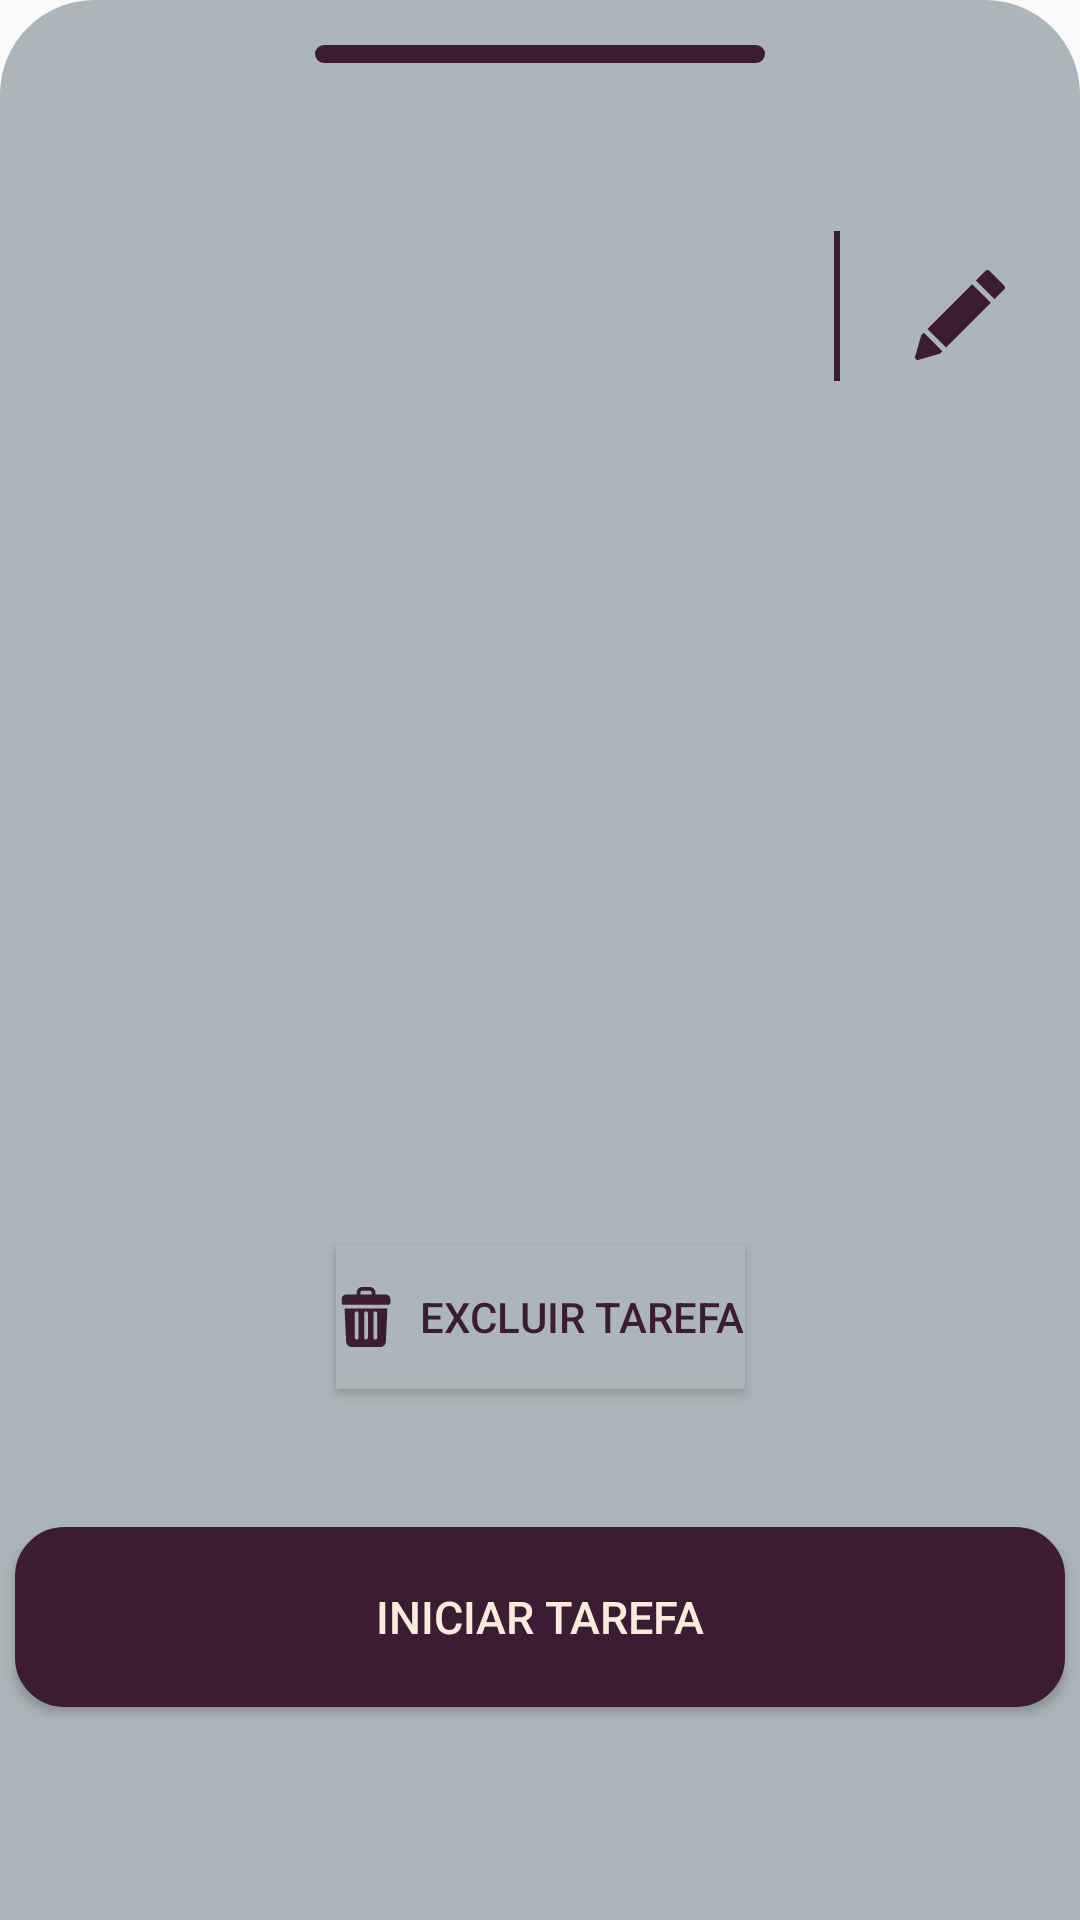

Icon click points for this 1080 × 1920 phone screenshot, format (x,y):
ferramenta lapis: (960,315)
